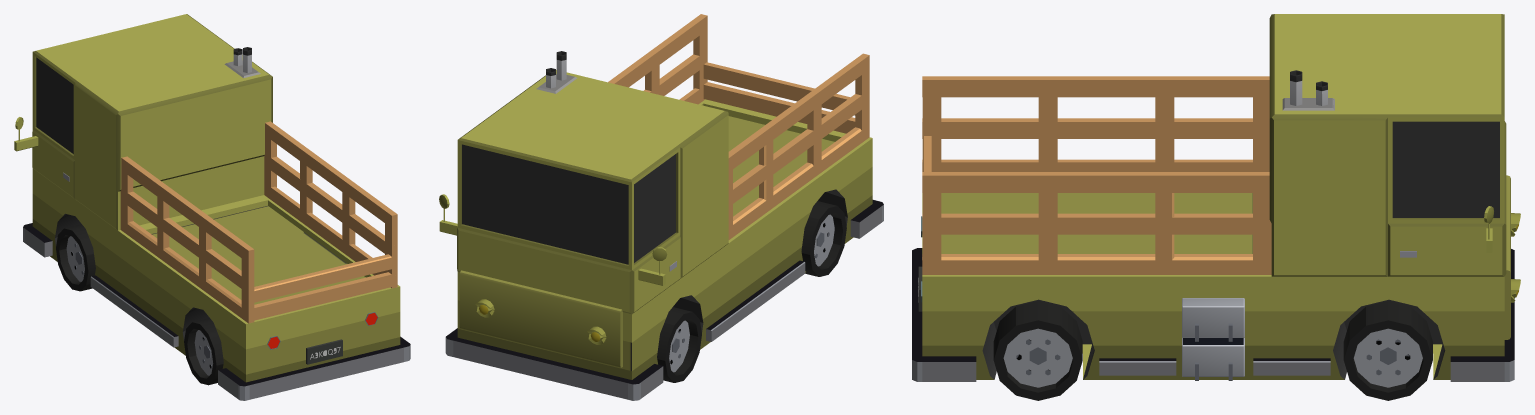
File: Truck_base.fbx
The picture shows the model from 3 angles, left to right: view 1: azimuth 30°, elevation 25°; view 2: azimuth 150°, elevation 25°; view 3: azimuth 270°, elevation 25°; orthographic projection. The views are drawn at different scales.
Parts seen in each view (by area): view 1: Truck.047, Truck.039, Truck.087, Truck.088, Truck.079, Truck.078, Truck.080, Truck.032, Truck.033, Truck.081, Truck.082, Truck.089 (+11 smaller); view 2: Truck.047, Truck.071, Truck.040, Truck.033, Truck.080, Truck.032, Truck.081, Truck.082, Truck.078, Truck.087, Truck.079, Truck.036 (+9 smaller); view 3: Truck.047, Truck.080, Truck.034, Truck.035, Truck.081, Truck.087, Truck.088, Truck.089, Truck.082, Truck.039, Truck.044, Truck.041 (+14 smaller).
Boxes of the visible parts, box(x1,y1,x2,y2) form: Truck.047: box(32, 14, 400, 382); Truck.039: box(218, 336, 410, 400); Truck.087: box(265, 121, 397, 228); Truck.088: box(264, 154, 397, 258); Truck.079: box(254, 272, 391, 320); Truck.078: box(254, 254, 391, 302); Truck.080: box(121, 156, 254, 262); Truck.032: box(56, 224, 95, 291); Truck.033: box(184, 318, 223, 385); Truck.081: box(127, 191, 254, 293); Truck.082: box(127, 221, 254, 323); Truck.089: box(264, 183, 397, 288); Truck.047: box(457, 70, 872, 379); Truck.071: box(459, 270, 622, 367); Truck.040: box(445, 328, 663, 400); Truck.033: box(801, 201, 846, 276); Truck.080: box(728, 53, 869, 168); Truck.032: box(657, 307, 701, 382); Truck.081: box(733, 94, 861, 203); Truck.082: box(733, 127, 861, 236); Truck.078: box(703, 62, 855, 115); Truck.087: box(608, 14, 707, 87); Truck.079: box(703, 82, 855, 133); Truck.036: box(706, 260, 805, 341); Truck.047: box(922, 14, 1506, 379); Truck.080: box(922, 76, 1269, 97); Truck.034: box(993, 301, 1082, 400); Truck.035: box(1343, 301, 1432, 400); Truck.081: box(922, 118, 1269, 138); Truck.087: box(922, 172, 1269, 192); Truck.088: box(922, 213, 1252, 234); Truck.089: box(922, 254, 1252, 274); Truck.082: box(922, 159, 1269, 171); Truck.039: box(912, 248, 976, 381); Truck.044: box(1182, 298, 1244, 337); Truck.041: box(1182, 337, 1244, 376).
Size of the model in its own units: 825 by 902 by 1579.
1 material, 1 textured.
